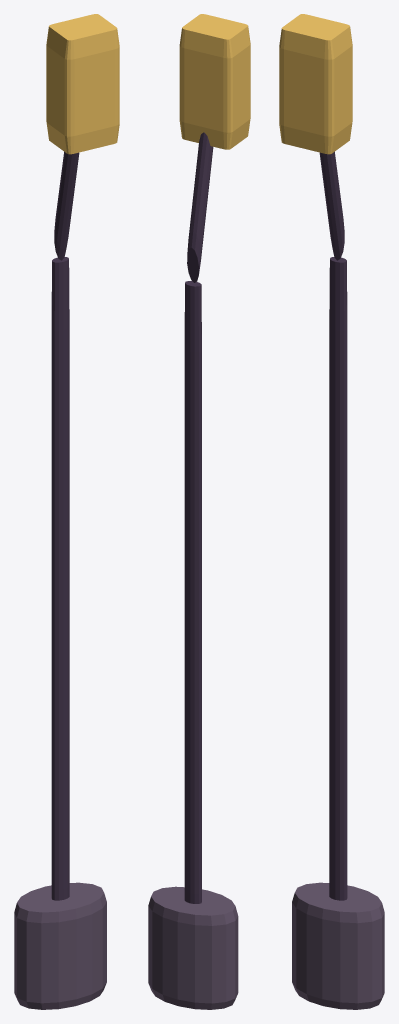
File: lamp_street.glb
The picture shows the model from 3 angles, left to right: view 1: azimuth 30°, elevation 25°; view 2: azimuth 150°, elevation 25°; view 3: azimuth 330°, elevation 25°; orthographic projection. The views are drawn at different scales.
Parts seen in each view (by area): view 1: model; view 2: model; view 3: model.
Boxes of the visible parts, x1,y1,x2,y2 form: model: (14,14,119,1009); model: (148,14,250,1009); model: (279,14,384,1009).
Size of the model in its own units: 0.25 by 2.7 by 0.25.
